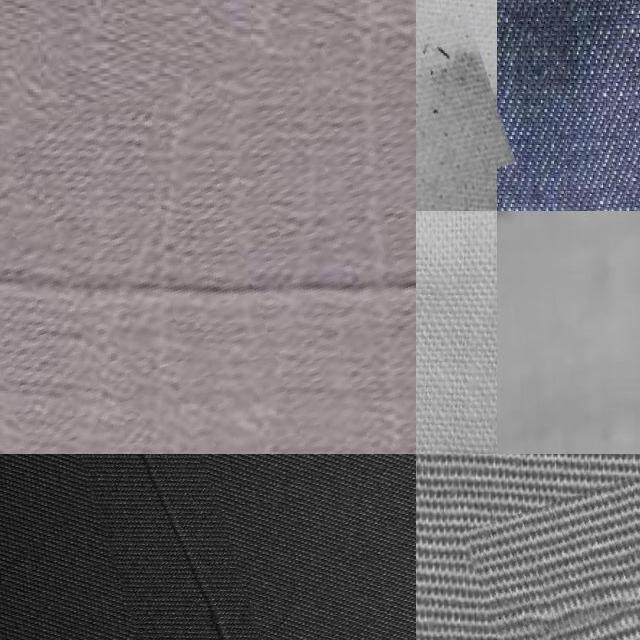Hole: (416, 26, 506, 230)
Thread_other: (0, 5, 416, 454), (67, 454, 262, 640), (478, 454, 640, 640)
